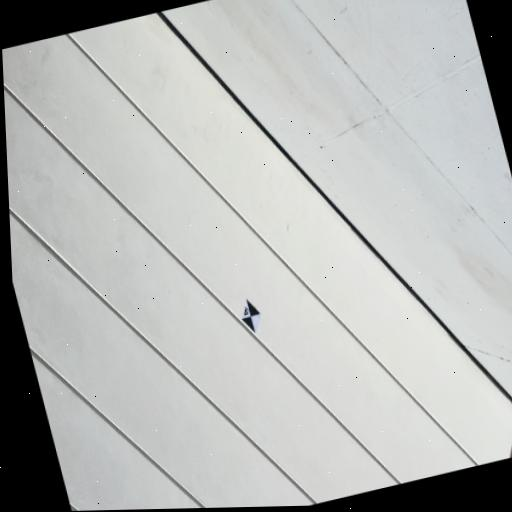target4: (241, 298, 260, 332)
